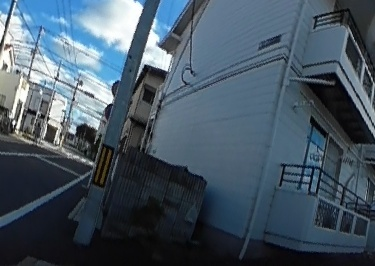person: (33, 114, 42, 142)
